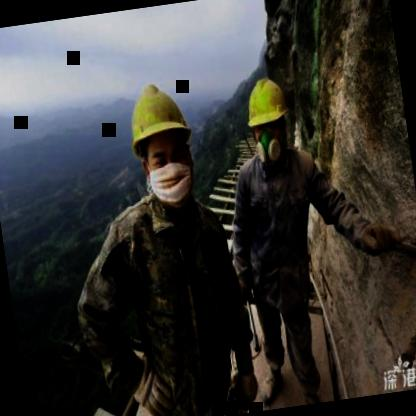helmet: (114, 62, 206, 217), (235, 64, 300, 167)
